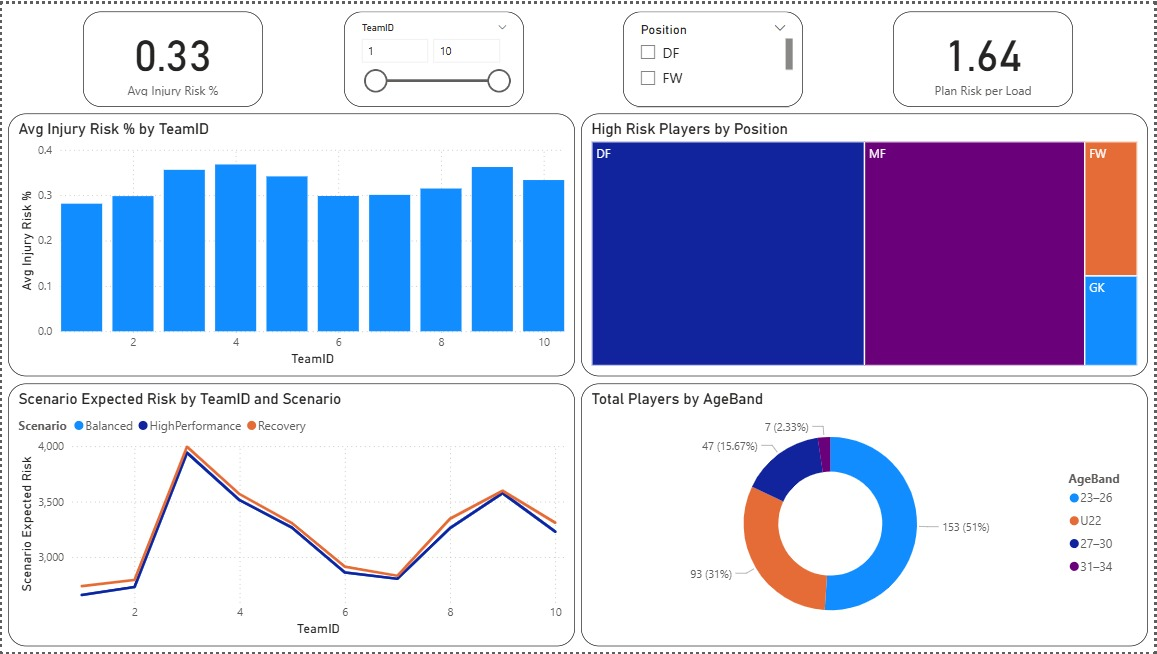

This screenshot's page, from the dashboard's own definition file:
{"tool":"powerbi","page":{"name":"Team Insights & Risk Hotspots","canvas":[1280,720],"ordinal":2},"visuals":[{"type":"slicer","fields":{"Values":["KPIs.TeamID"]},"box":[380,8,200,106],"z":0},{"type":"card","fields":{"Values":["KPIs.Plan Risk per Load"]},"box":[990,8,200,106],"z":1},{"type":"slicer","fields":{"Values":["Players.Position"]},"box":[690,8,200,106],"z":2},{"type":"card","fields":{"Values":["KPIs.Avg Injury Risk %"]},"box":[90,8,200,106],"z":3},{"type":"clusteredColumnChart","fields":{"Category":["Players.TeamID"],"Y":["KPIs.Avg Injury Risk %"]},"box":[6,122,630,292],"z":4},{"type":"lineChart","fields":{"Category":["Players.TeamID"],"Series":["Scenario.Scenario"],"Y":["KPIs.Scenario Expected Risk"]},"box":[6,421,630,292],"z":5},{"type":"treemap","fields":{"Group":["Risk.Position"],"Values":["KPIs.High Risk Players"]},"box":[644,122,630,292],"z":6},{"type":"donutChart","fields":{"Category":["Players.AgeBand"],"Y":["KPIs.Total Players"]},"box":[644,421,630,292],"z":7}]}

Visuals, with their boxes in screenshot pixels (x1, y1, x2, y2), scaled from the page's 1280x720 canvas onto the 1157x654 screenshot:
slicer - KPIs.TeamID: x1=343, y1=7, x2=524, y2=104
card - KPIs.Plan Risk per Load: x1=895, y1=7, x2=1076, y2=104
slicer - Players.Position: x1=624, y1=7, x2=804, y2=104
card - KPIs.Avg Injury Risk %: x1=81, y1=7, x2=262, y2=104
clusteredColumnChart - Players.TeamID x KPIs.Avg Injury Risk %: x1=5, y1=111, x2=575, y2=376
lineChart - Players.TeamID x Scenario.Scenario: x1=5, y1=382, x2=575, y2=648
treemap - Risk.Position x KPIs.High Risk Players: x1=582, y1=111, x2=1152, y2=376
donutChart - Players.AgeBand x KPIs.Total Players: x1=582, y1=382, x2=1152, y2=648
